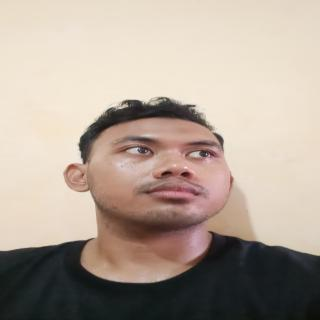Takut: (80, 114, 239, 232)
